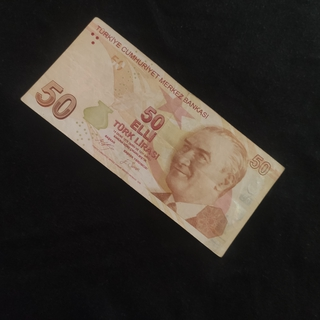50TLFront: (21, 16, 284, 257)
